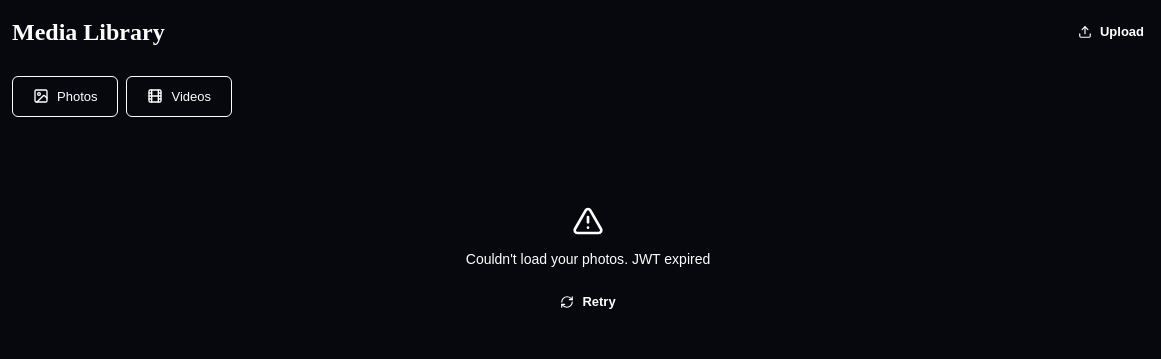
Test: MediaLibrary load errors › shows an error with Retry instead of an empty library
Check: the text "Couldn't load your photos. JWT expired" is shown, box [466,249,710,270]
Click the button "Retry" at (588, 302), box [540,282,636,322]
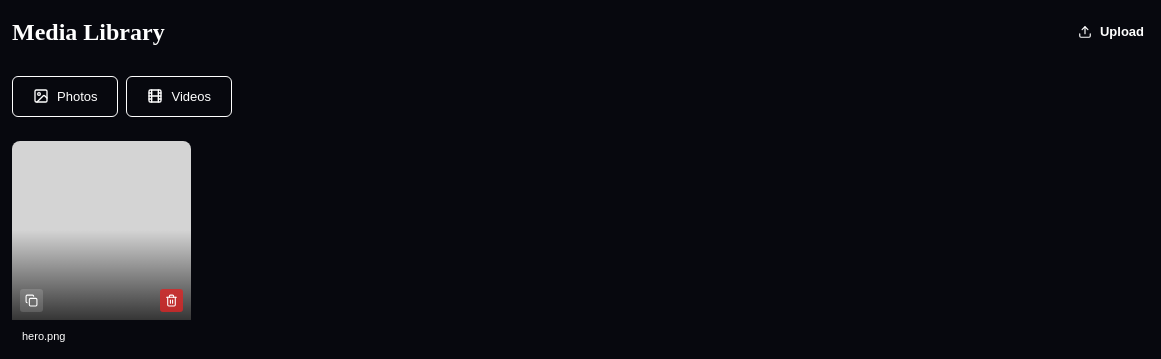
Check: the text "hero.png" is shown, box [22,330,65,342]
Check: the text "Couldn't load" is gone
